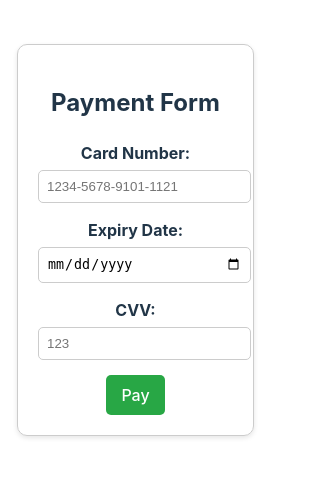
Test case: Card Incomplete info validation › shows an error message when fields are incomplete
Step 1. Click the button "Pay" → [135, 395], box [106,375,164,415]
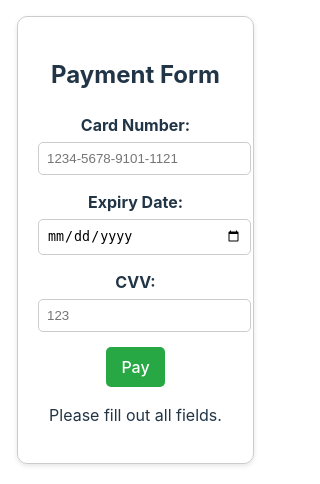
Check: the text "Please fill out all fields." is shown, box [38,403,233,427]
